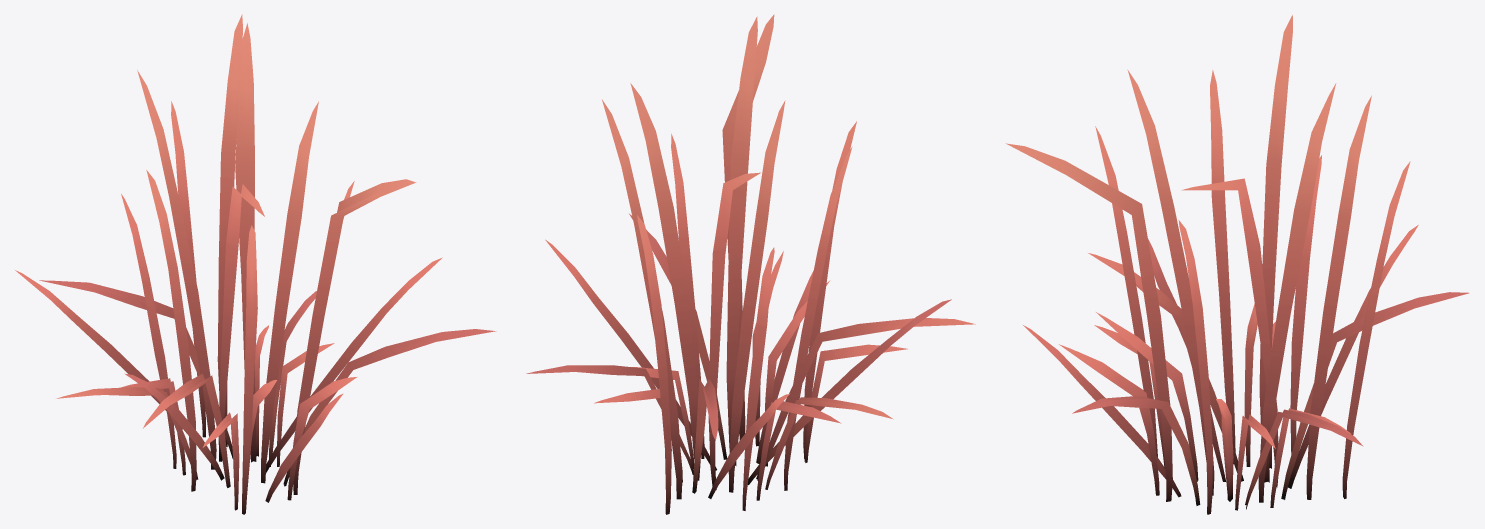
The model's file is grassdry2.glb.
The picture shows the model from 3 angles, left to right: view 1: azimuth 30°, elevation 25°; view 2: azimuth 150°, elevation 25°; view 3: azimuth 270°, elevation 25°; orthographic projection. The views are drawn at different scales.
Visible parts, largest first — view 1: Grass_Wispy_Tall; view 2: Grass_Wispy_Tall; view 3: Grass_Wispy_Tall.
Boxes of the visible parts, x1,y1,x2,y2 form: Grass_Wispy_Tall: (15, 14, 496, 514); Grass_Wispy_Tall: (526, 14, 975, 514); Grass_Wispy_Tall: (1005, 15, 1469, 514).
Bounding box in the file's own units: 1.54 × 1.67 × 1.59.
1 material, 1 textured.
